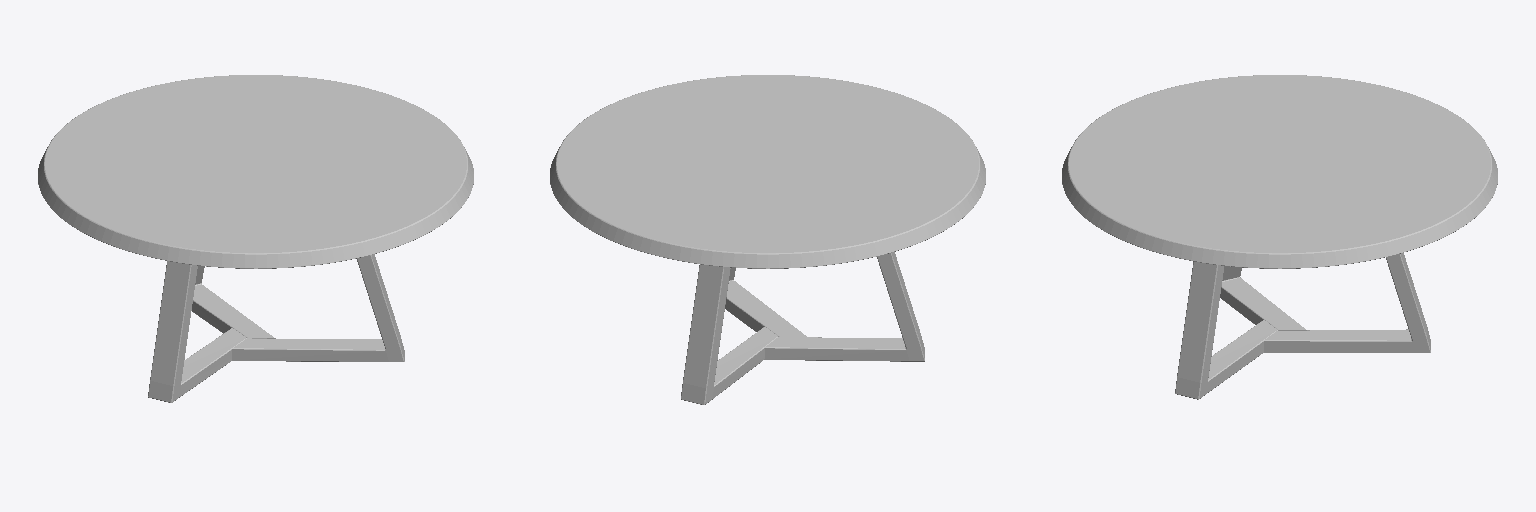
The model's file is Table.obj.
The picture shows the model from 3 angles: view 1: azimuth 30°, elevation 25°; view 2: azimuth 150°, elevation 25°; view 3: azimuth 270°, elevation 25°; orthographic projection.
Parts seen in each view (by area): view 1: Mesh; view 2: Mesh; view 3: Mesh.
Part boxes in pixels (bbox=[...]): Mesh: bbox=[38, 75, 473, 402]; Mesh: bbox=[550, 75, 985, 404]; Mesh: bbox=[1062, 75, 1497, 399].
Bounding box in the file's own units: 24.27 × 11.27 × 24.27.